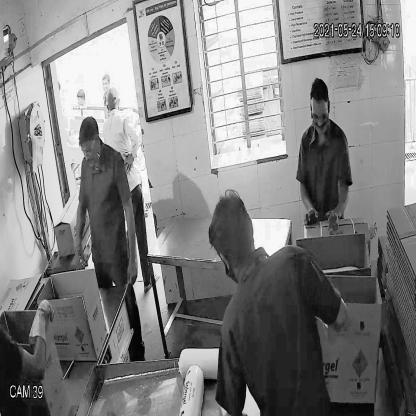goggles: (80, 137, 98, 159)
